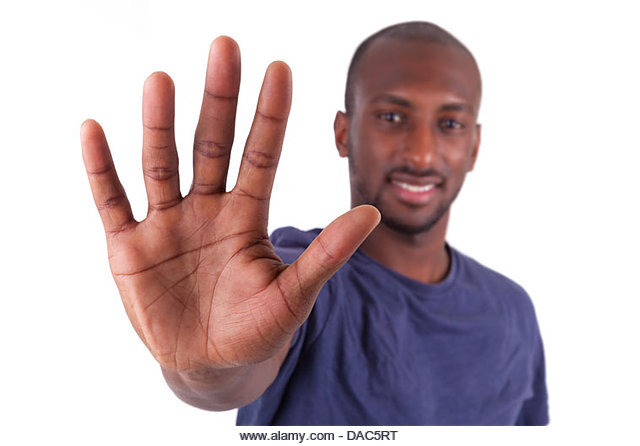non-diseased: (72, 40, 372, 371)
